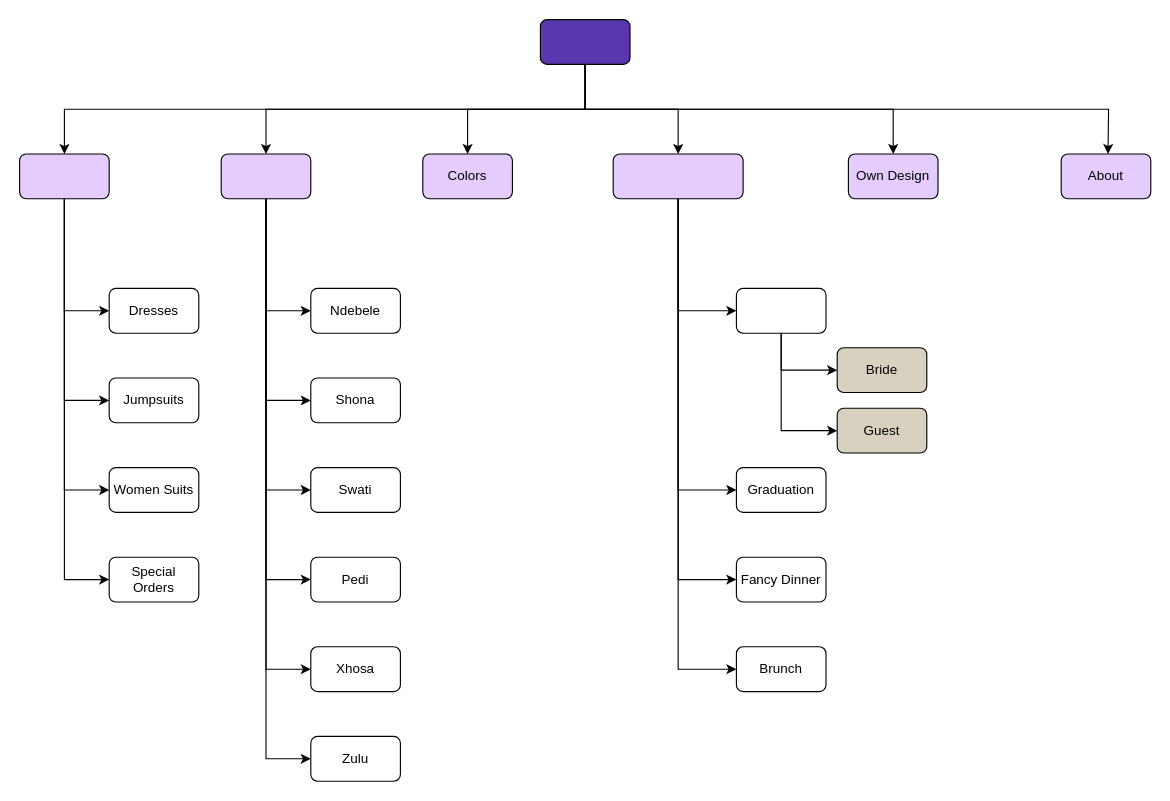
This 1170x801 diagram has some shape labels left out. The centre of each missing label's shape, as x and y in pixels:
Categories: pixel 63 176
HOME: pixel 584 41
Occasian/Event: pixel 677 176
Tribal Culture: pixel 265 176
Wedding: pixel 780 310
